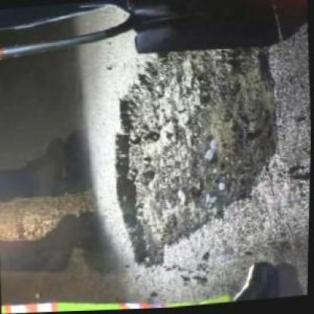Hueco: (103, 24, 284, 272)
